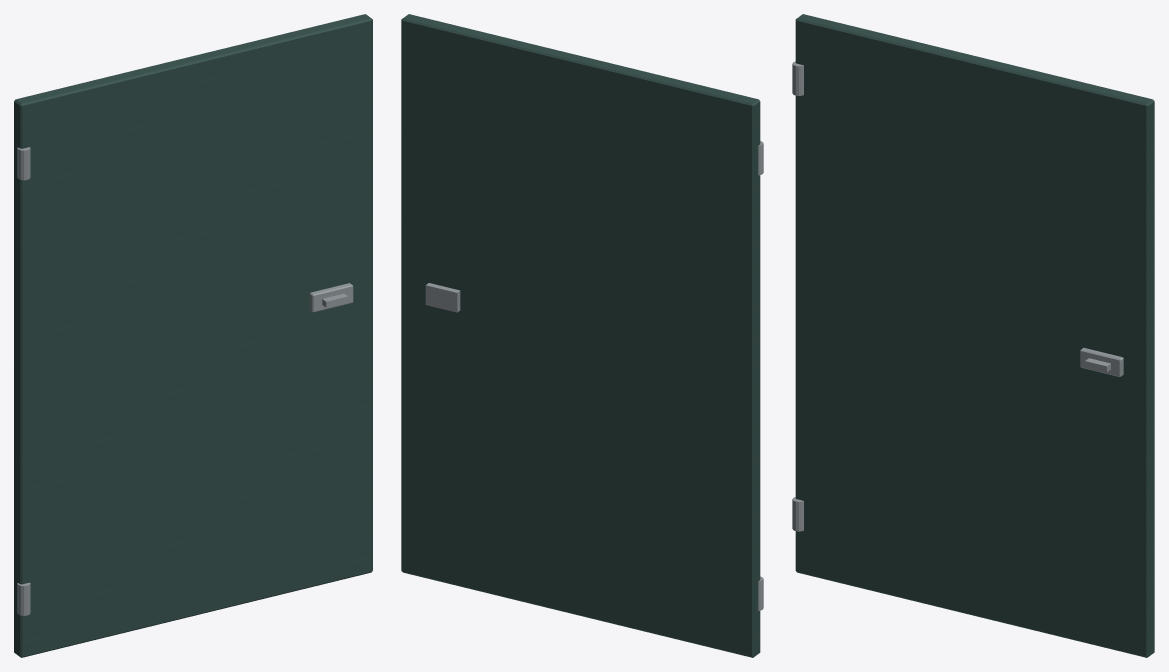
File: restroom_stall_door.glb
3 renders of one model, left to right at view 1: azimuth 30°, elevation 25°; view 2: azimuth 150°, elevation 25°; view 3: azimuth 330°, elevation 25°, orthographic.
Visible parts, largest first — view 1: restroom_stall_door; view 2: restroom_stall_door; view 3: restroom_stall_door.
Part boxes in pixels (x1=…): restroom_stall_door: x1=14, y1=14, x2=372, y2=657; restroom_stall_door: x1=401, y1=14, x2=763, y2=657; restroom_stall_door: x1=792, y1=14, x2=1154, y2=657.
Bounding box in the file's own units: 1.13 × 1.68 × 0.1015.
2 materials, 2 textured.
